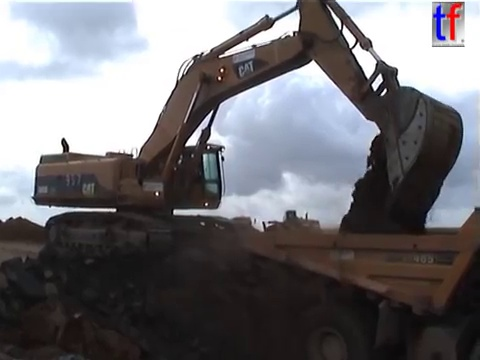excavator: (27, 1, 467, 265)
truck: (235, 201, 480, 360)
wheel loader: (252, 209, 327, 245)
